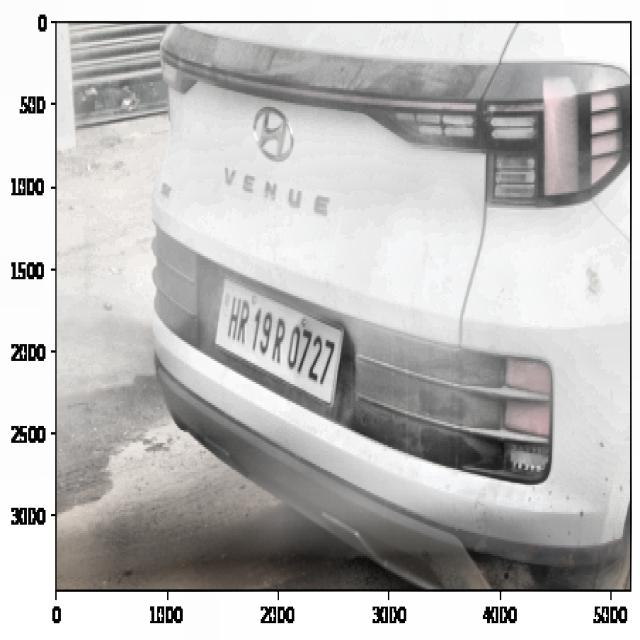license_plate: (226, 290, 338, 396)
